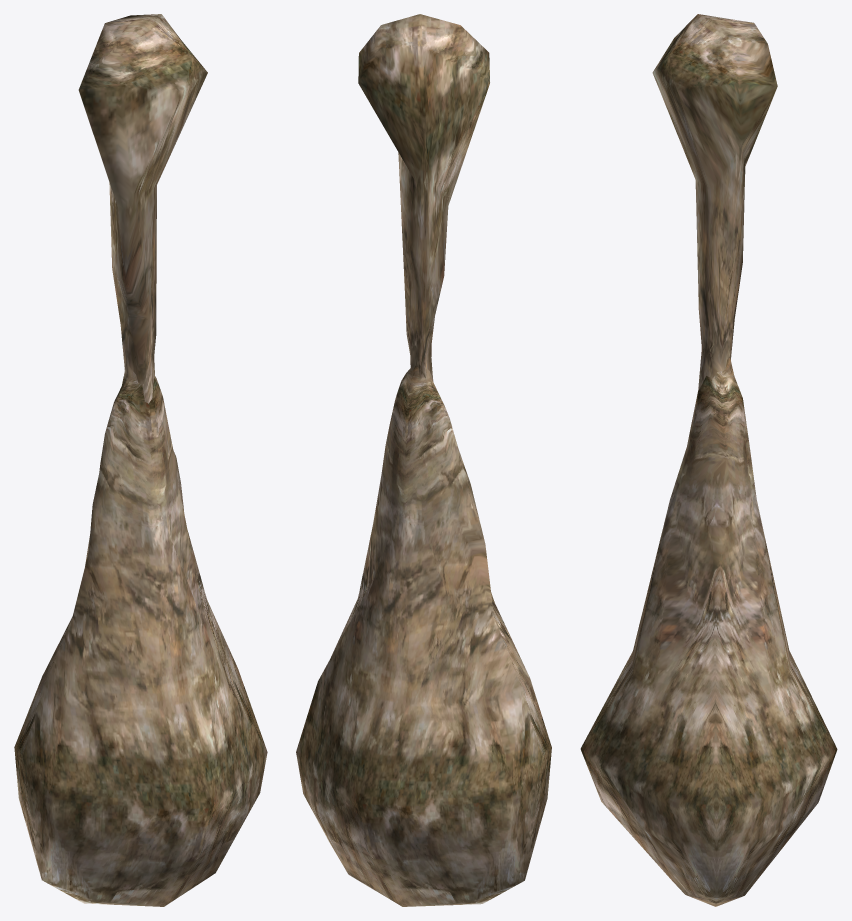
Rendered from thm_all_cave_column_a3_l0.fbx.
3 views of the same model, side by side, from view 1: azimuth 30°, elevation 25°; view 2: azimuth 150°, elevation 25°; view 3: azimuth 270°, elevation 25° (orthographic).
Parts seen in each view (by area): view 1: mesh_node; view 2: mesh_node; view 3: mesh_node.
Part boxes in pixels (x1,y1,x2,y2): mesh_node: (14, 14, 267, 906); mesh_node: (296, 14, 551, 906); mesh_node: (580, 14, 837, 906).
Bounding box in the file's own units: 4.26 × 15.14 × 4.09.
